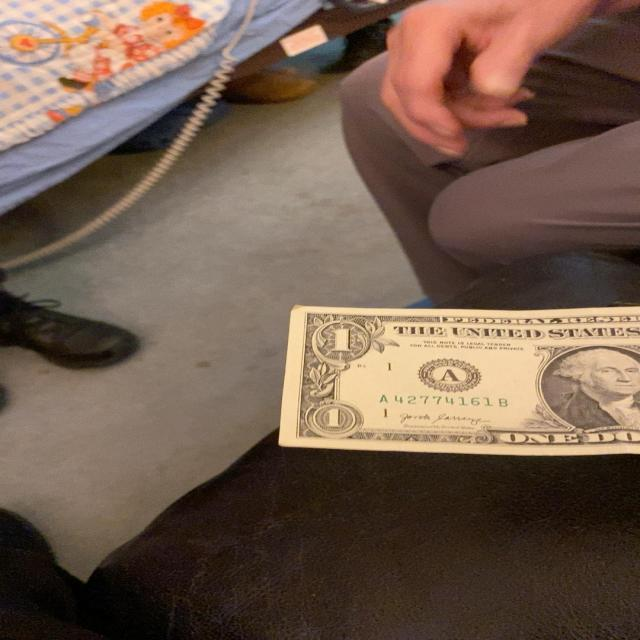1-Front: (279, 306, 640, 460)
